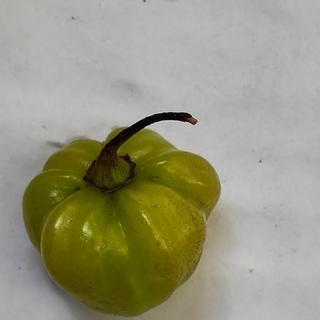Grade-B: (15, 118, 225, 317)
